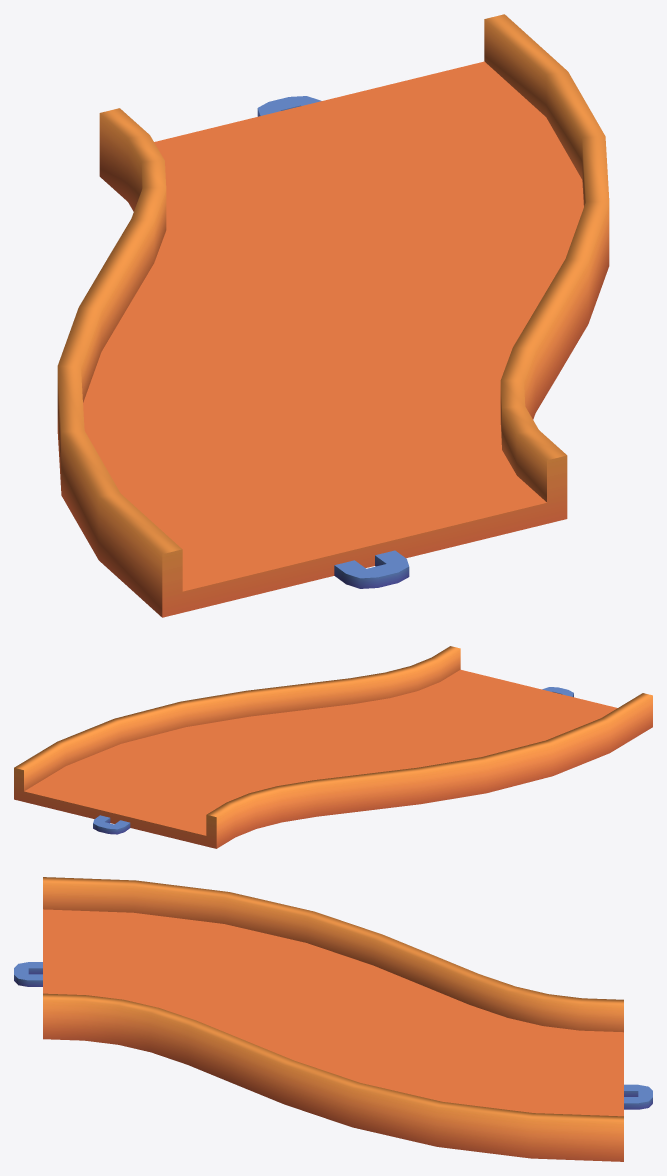
Rendered from kenney-toy-car-track-wide-curve.glb.
The picture shows the model from 3 angles, top to bottom: view 1: azimuth 30°, elevation 25°; view 2: azimuth 150°, elevation 25°; view 3: azimuth 270°, elevation 25°; orthographic projection. The views are drawn at different scales.
Parts seen in each view (by area): view 1: track-wide-curve; view 2: track-wide-curve; view 3: track-wide-curve.
Boxes of the visible parts, x1,y1,x2,y2 form: track-wide-curve: (57,14,609,617); track-wide-curve: (14,646,652,848); track-wide-curve: (14,877,652,1161).
Bounding box in the file's own units: 4 × 0.2997 × 4.4.
Materials: 1 (1 with a texture image).
